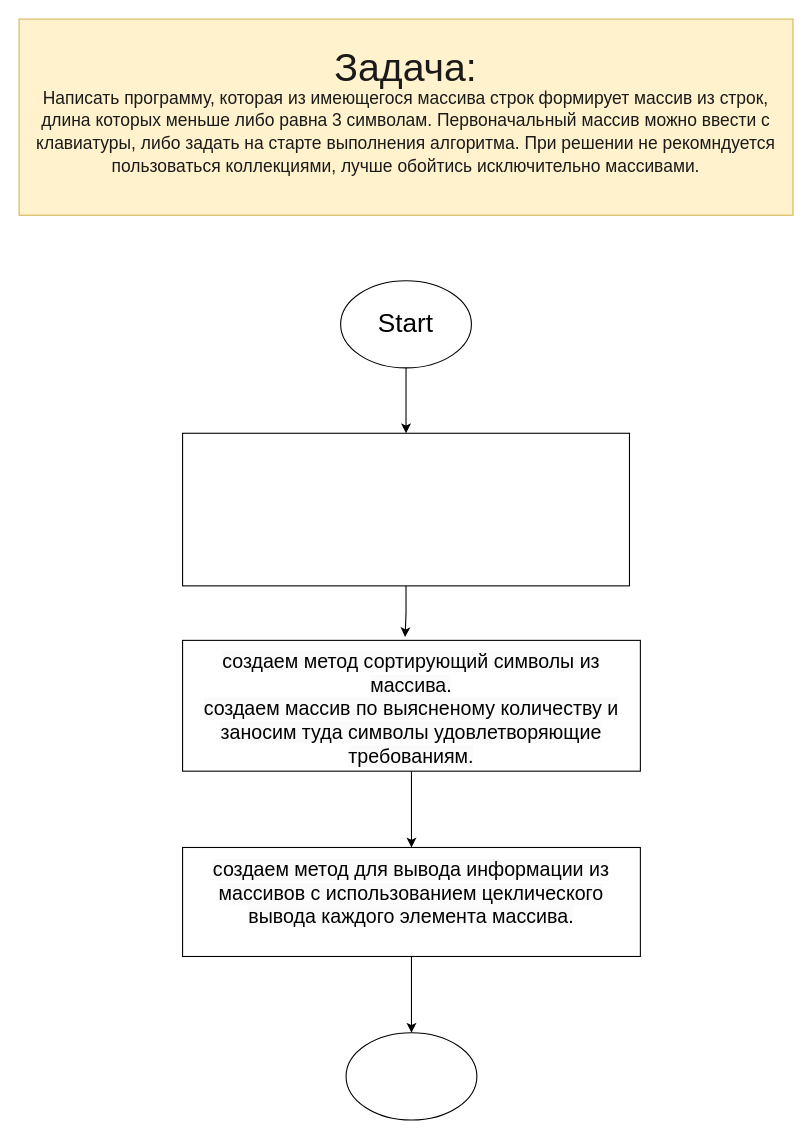
Some shapes in this 812 by 1139 pixel diagram are drawn without their labels. The centre of each missing label's shape, as x and y in pixels:
END: point 411,1076
создаем метод для разделения строки из консоли в массив по знаку ",": point 405,509
